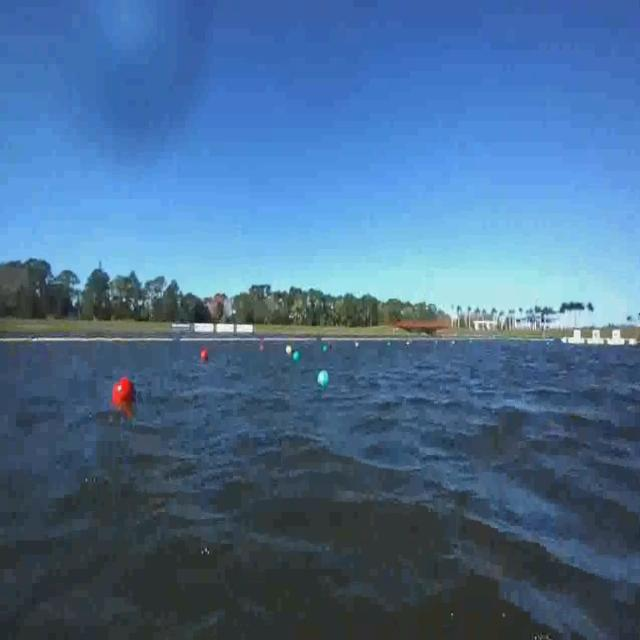green-buoy: (320, 368, 332, 387), (292, 350, 300, 362)
red-buoy: (116, 377, 138, 403), (202, 348, 209, 362)
